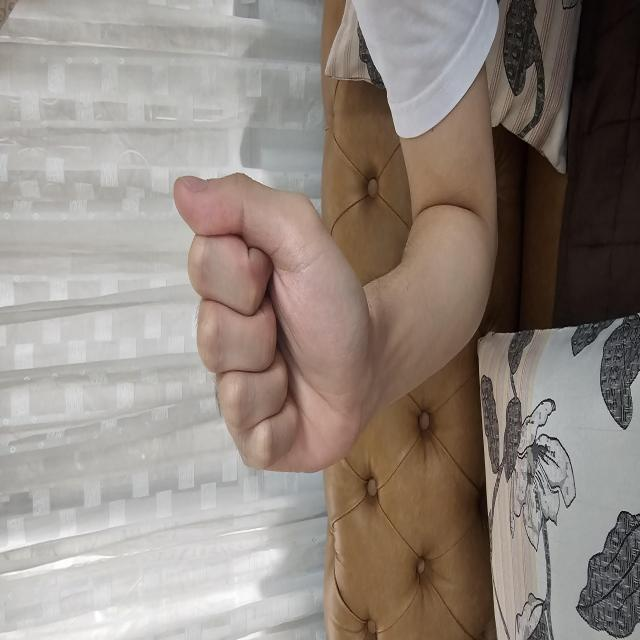A: (165, 171, 472, 373)
